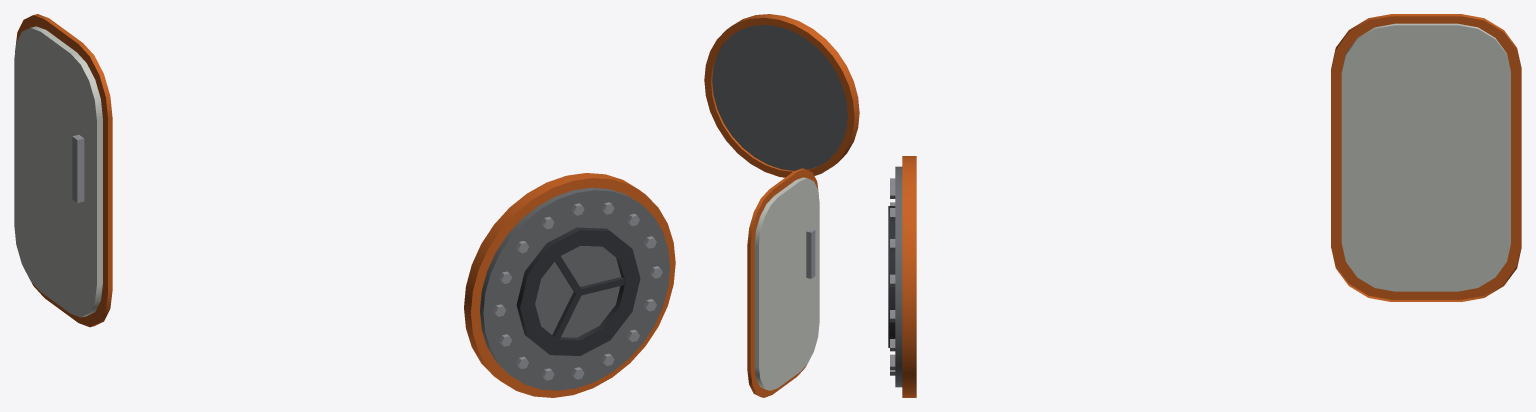
The model's file is p20_hatch.obj.
3 views of the same model, side by side, from view 1: azimuth 30°, elevation 25°; view 2: azimuth 150°, elevation 25°; view 3: azimuth 270°, elevation 25° (orthographic). The views are drawn at different scales.
Parts seen in each view (by area): view 1: p20_hatch; view 2: p20_hatch; view 3: p20_hatch.
Boxes of the visible parts, left/top/right/bottom form: p20_hatch: left=14, top=14, right=675, bottom=397; p20_hatch: left=704, top=14, right=859, bottom=397; p20_hatch: left=888, top=14, right=1521, bottom=397.
Size of the model in its own units: 2.46 by 1.77 by 3.56.
